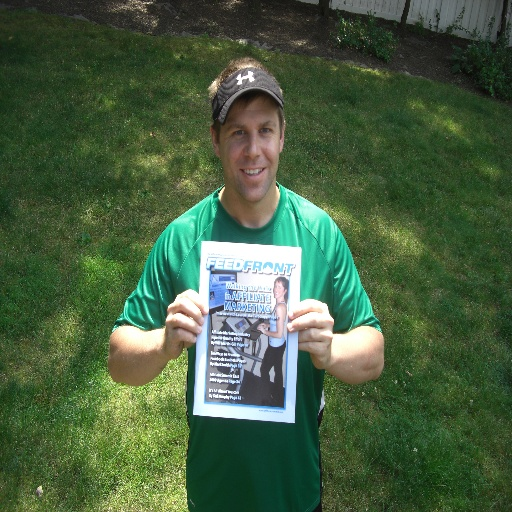hand: (287, 296, 334, 372), (157, 295, 205, 360), (256, 324, 265, 332), (257, 322, 266, 328)
